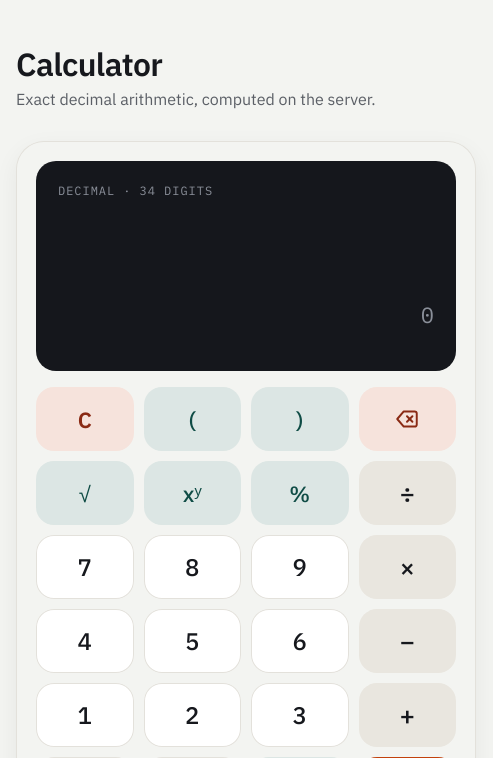
it: App › highlights the character an error points at and describes the error
The image size is (493, 758).
What coordinates should you click on to do the following:
click the button "2"
I would click on:
 (192, 715)
Its box is [144,683,241,747].
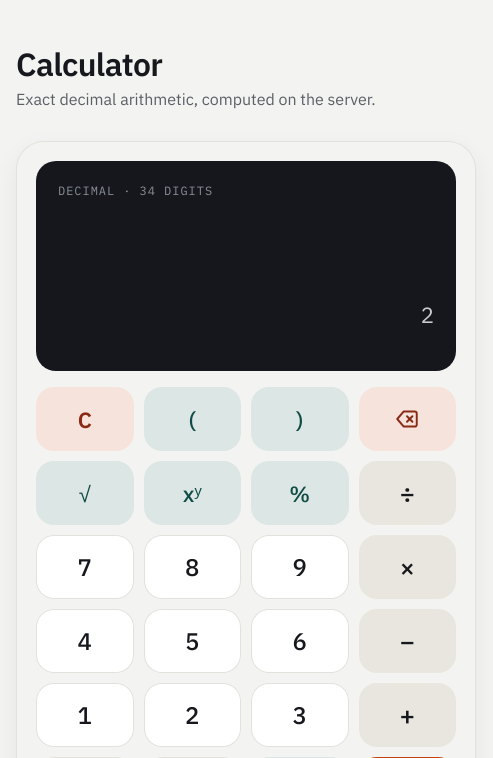
What coordinates should you click on to do the following:
click the button named "Plus"
I would click on:
 (407, 715)
Its box is [358,683,456,747].
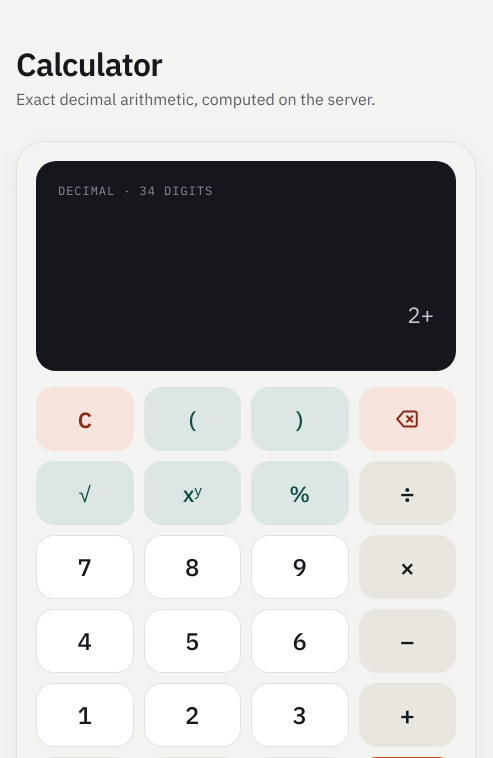
What coordinates should you click on to do the following:
click the button named "Close parenthesis"
I would click on:
 (300, 419)
Its box is [251,387,348,451].
(page scrolled)
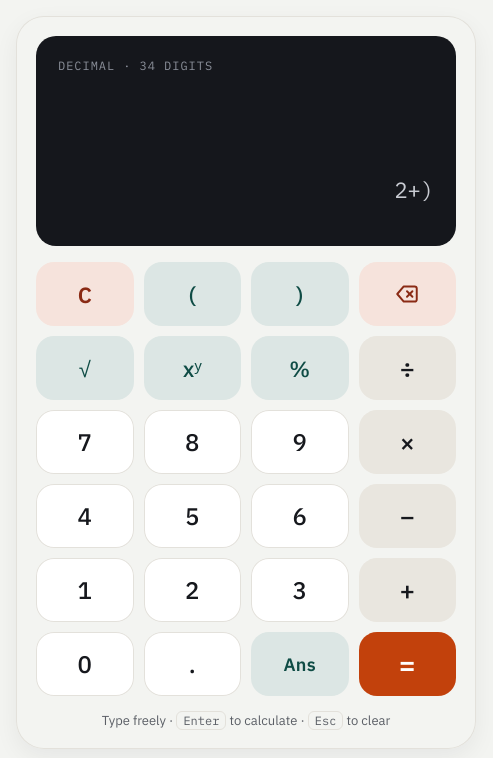
What coordinates should you click on to do the following:
click the button named "Calculate"
I would click on:
 (407, 664)
Its box is [358,632,456,696].
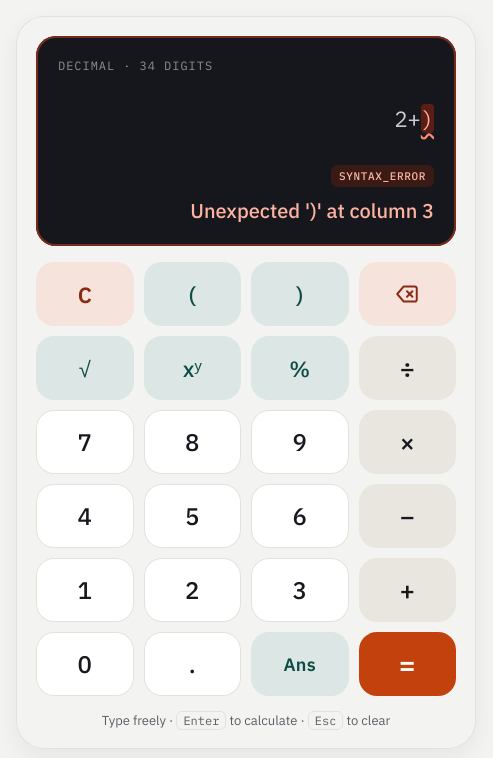
Check: the message shows "SYNTAX_ERROR", box [339,169,426,183]
Check: the message shows "Unexpected ')' at column 3", box [190,197,434,224]
Check: the text ")" is shown, box [421,104,434,133]
